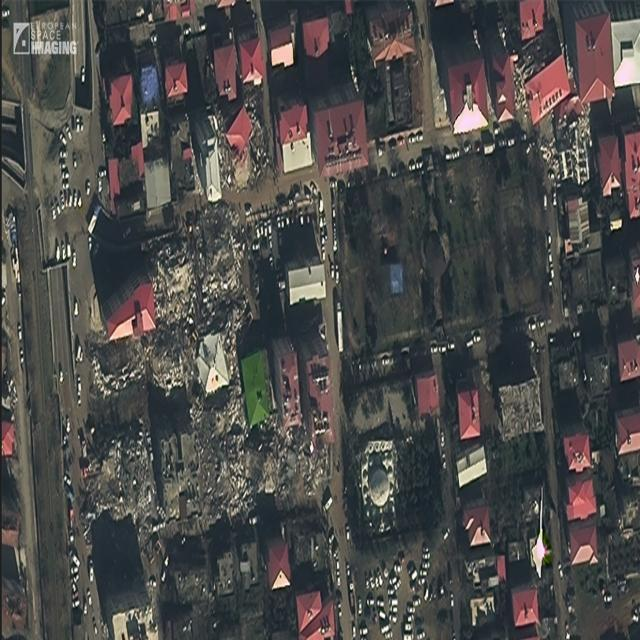Rubble: (86, 428, 156, 522), (196, 203, 251, 322), (194, 321, 245, 416), (220, 98, 272, 188), (202, 418, 242, 520), (146, 328, 199, 404), (152, 238, 196, 326), (508, 36, 551, 120), (89, 342, 147, 404), (554, 114, 594, 188), (246, 428, 272, 513), (277, 438, 304, 502), (305, 436, 325, 498)
